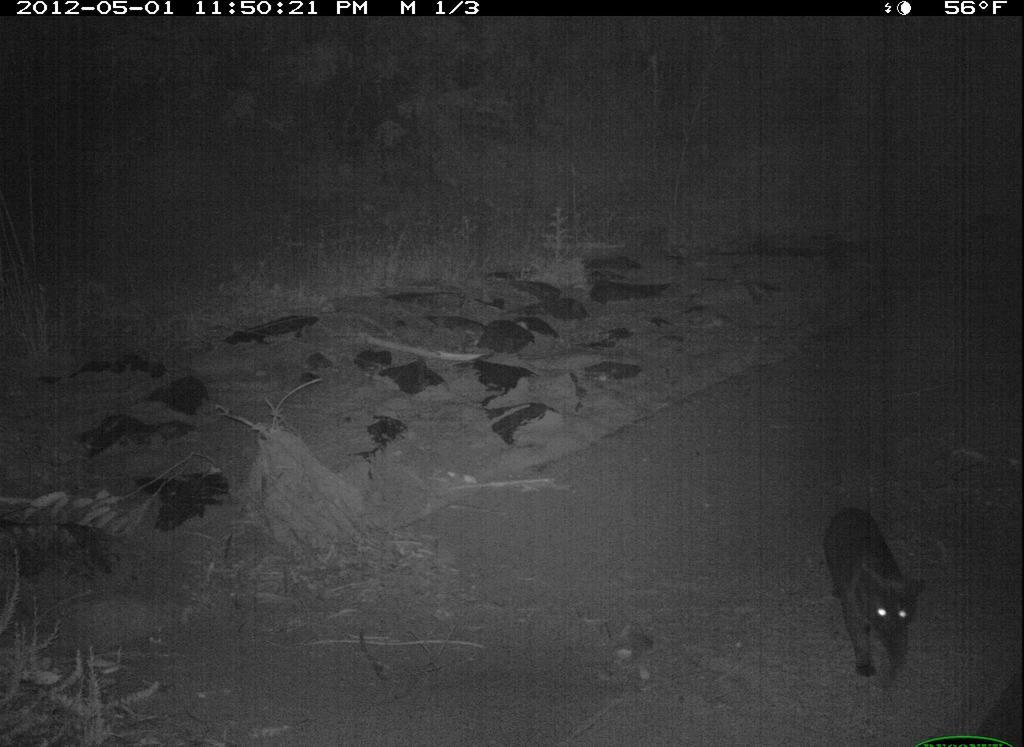cat: (808, 493, 940, 689)
